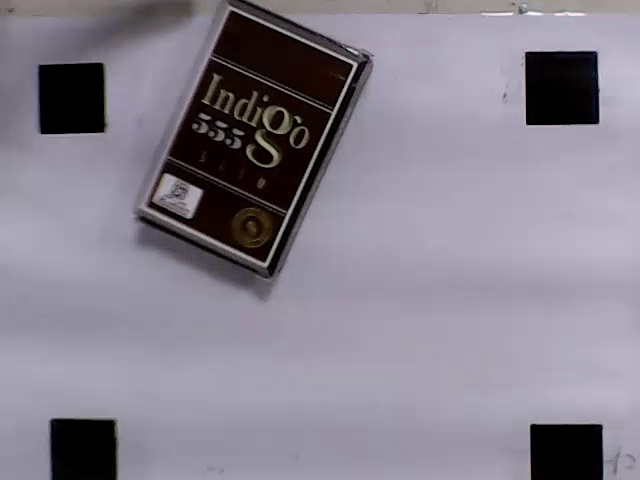BEX: (142, 7, 357, 265)
